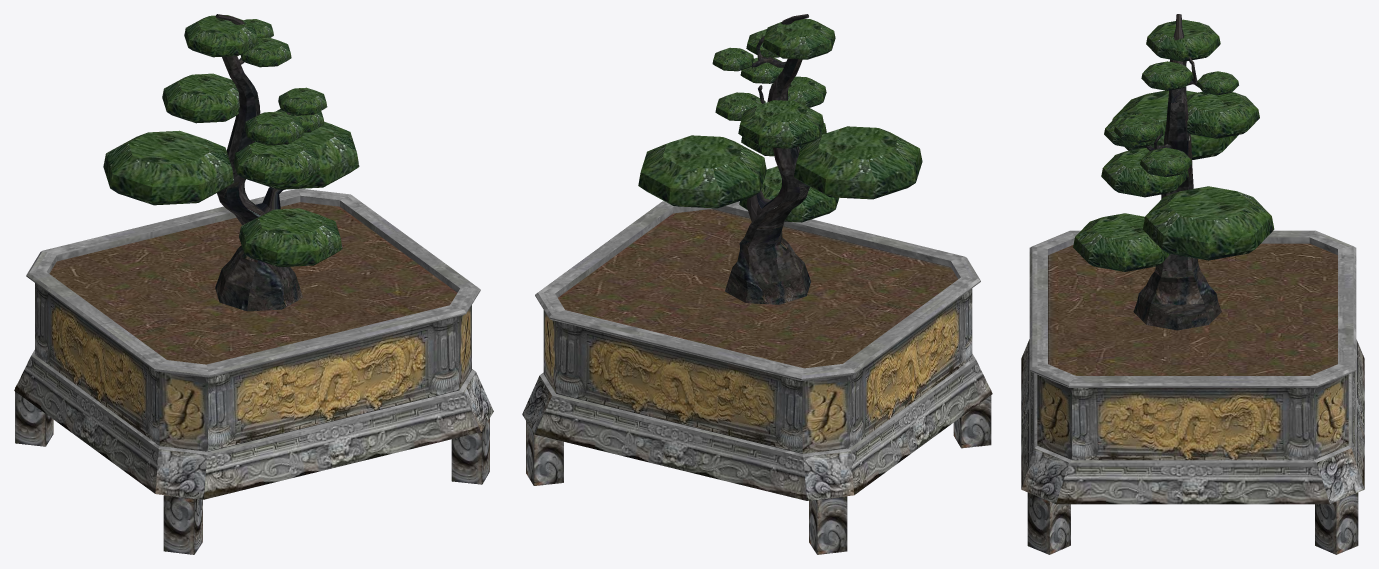
Rendered from cay-tung-dang-long.glb.
3 renders of one model, left to right at view 1: azimuth 30°, elevation 25°; view 2: azimuth 150°, elevation 25°; view 3: azimuth 270°, elevation 25°, orthographic. The views are drawn at different scales.
Visible parts, largest first — view 1: Plane_005; view 2: Plane_005; view 3: Plane_005.
Part boxes in pixels (x1,y1,x2,y2): Plane_005: (14,14,493,554); Plane_005: (522,14,992,554); Plane_005: (1021,14,1364,554).
Bounding box in the file's own units: 2.43 × 3.15 × 2.21.
Materials: 1 (1 with a texture image).
